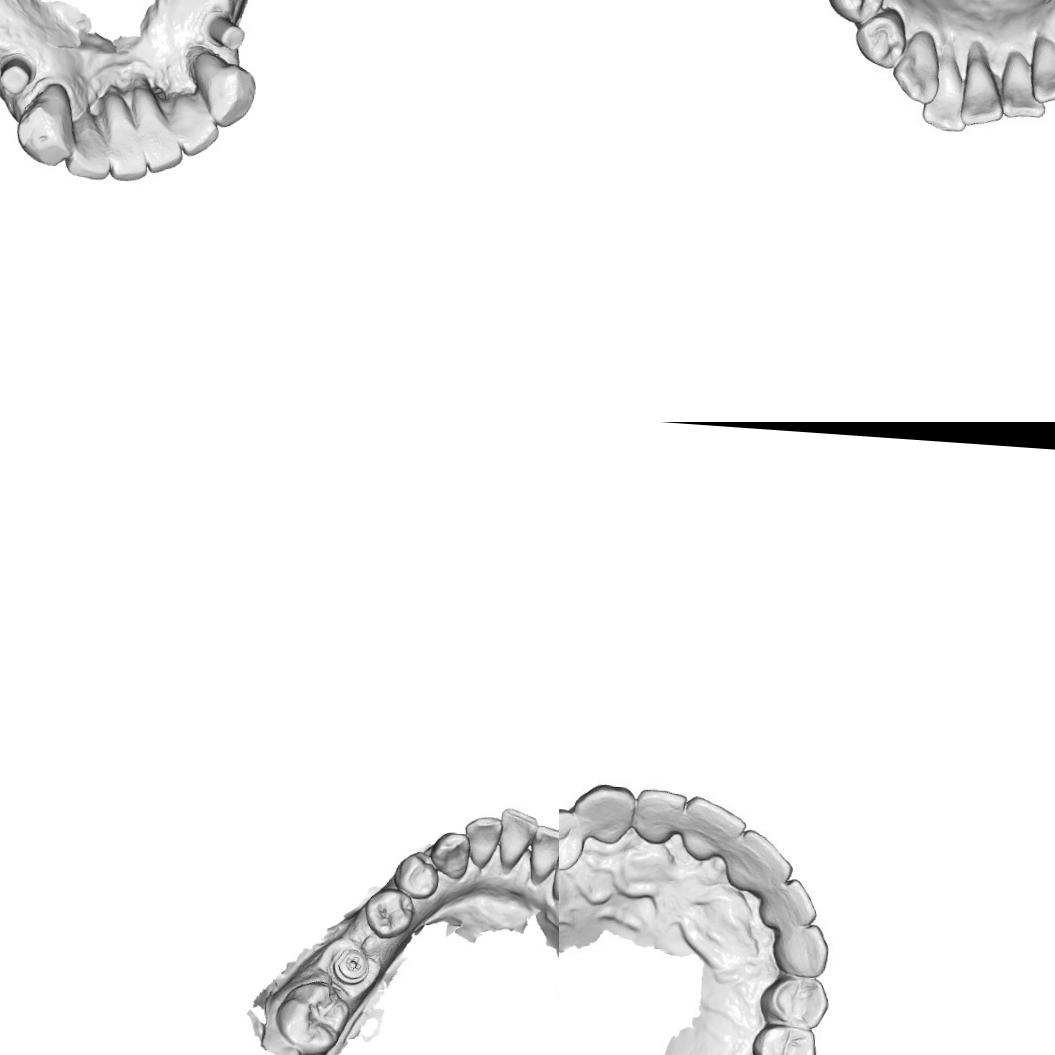abutment: (198, 8, 248, 53), (0, 47, 42, 100)
canine: (180, 42, 260, 130), (12, 78, 79, 169), (892, 27, 942, 104), (572, 780, 630, 843), (771, 921, 832, 977), (426, 828, 472, 882)
implant_plus: (328, 944, 371, 986)
incisor: (724, 828, 794, 900), (924, 36, 974, 131), (958, 42, 1011, 125), (99, 106, 153, 186), (682, 796, 748, 861), (62, 112, 118, 182), (164, 92, 222, 158), (997, 51, 1048, 118), (141, 105, 187, 178), (632, 785, 688, 844), (757, 875, 816, 928), (496, 806, 540, 870), (460, 813, 502, 871), (526, 822, 559, 882), (1029, 36, 1055, 104), (549, 842, 559, 901)
molar: (270, 974, 353, 1055)
premolar: (766, 975, 832, 1025), (362, 886, 418, 940), (390, 848, 442, 902), (856, 12, 907, 65), (755, 1024, 813, 1055), (559, 807, 584, 871), (827, 0, 883, 25)
